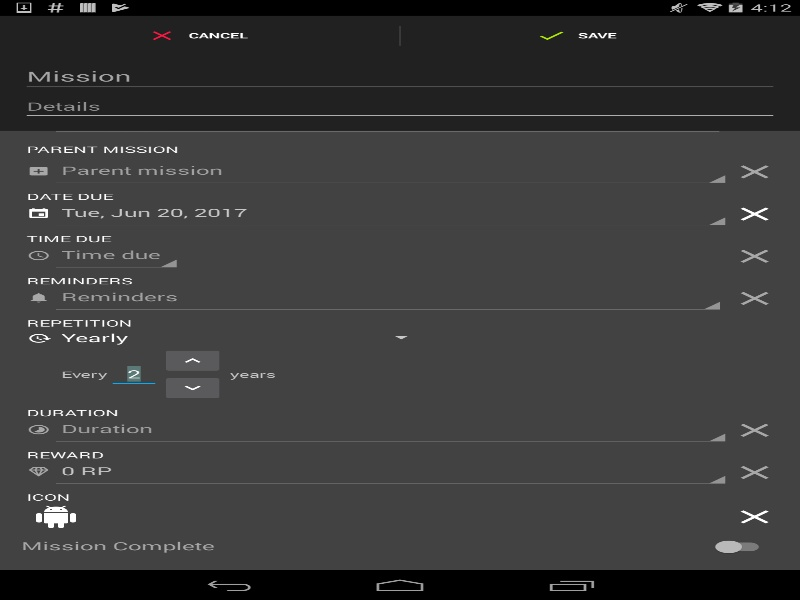Button: (50, 155, 730, 185), (50, 197, 730, 227), (50, 414, 730, 444), (50, 456, 730, 486), (50, 282, 725, 312), (50, 240, 182, 270), (160, 346, 224, 374), (160, 374, 224, 401)
Input: (21, 60, 778, 92), (21, 92, 778, 120), (107, 360, 160, 388)
